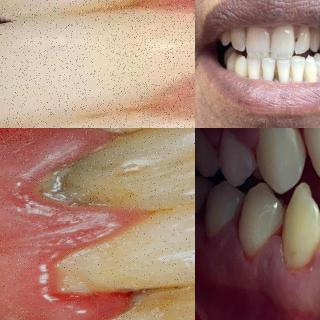Gum Swelling: (0, 128, 136, 320), (124, 0, 195, 128), (207, 223, 320, 288)
calculus: (270, 61, 282, 85)
maligned: (297, 128, 320, 191), (235, 54, 249, 76)
plaque: (24, 152, 176, 215), (46, 222, 160, 292), (121, 279, 193, 315), (22, 128, 164, 141)
stains: (268, 32, 278, 54), (241, 30, 251, 50), (257, 61, 265, 80), (287, 64, 295, 82), (302, 68, 310, 83)
